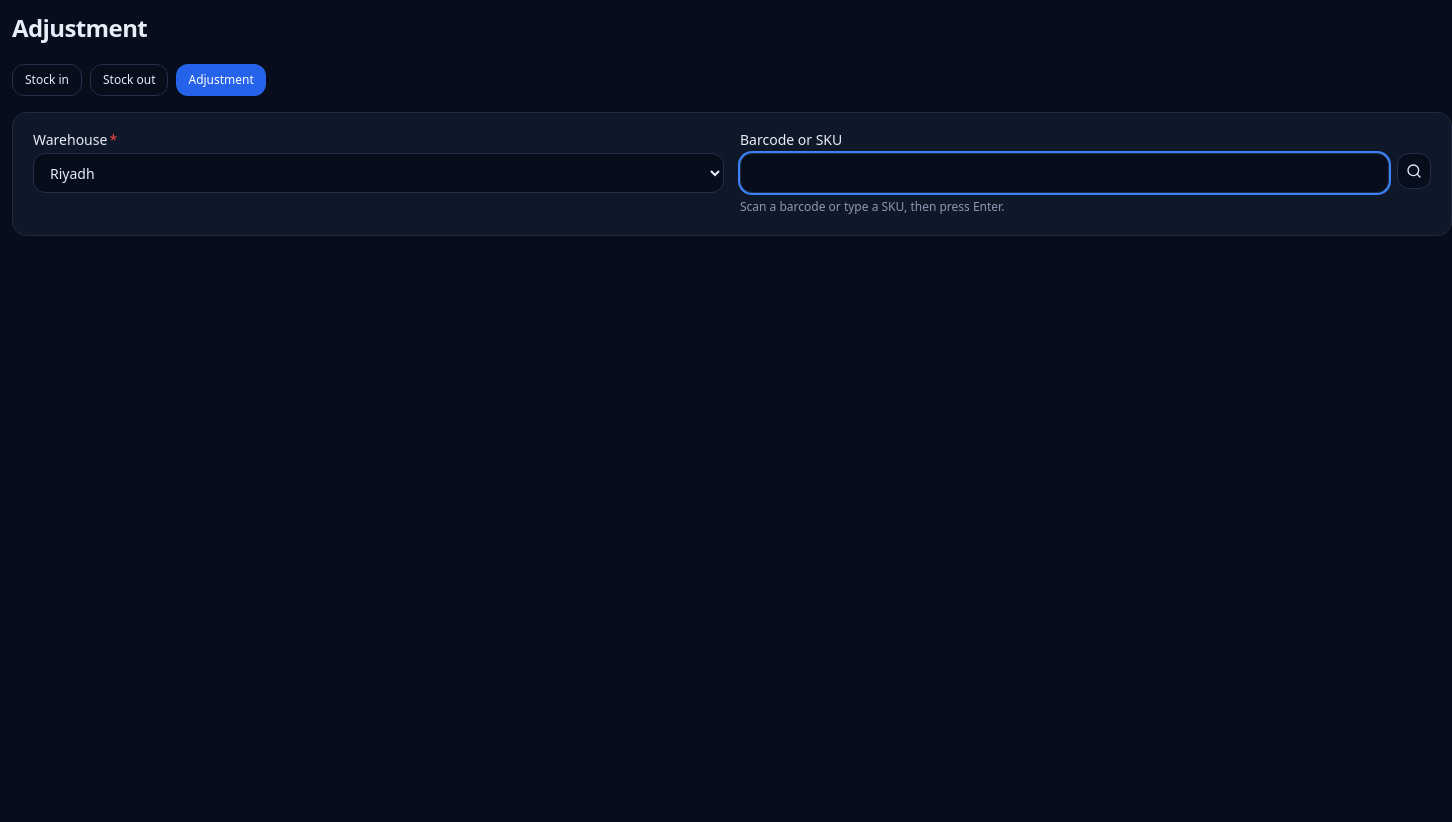
it: stock movement form (server-first) › shows validation messages and sends nothing for an invalid adjustment
The image size is (1452, 822).
In the field labelled "Barcode or SKU": (1065, 173) [740, 153, 1389, 193], type "2000000100104"
Then press Enter
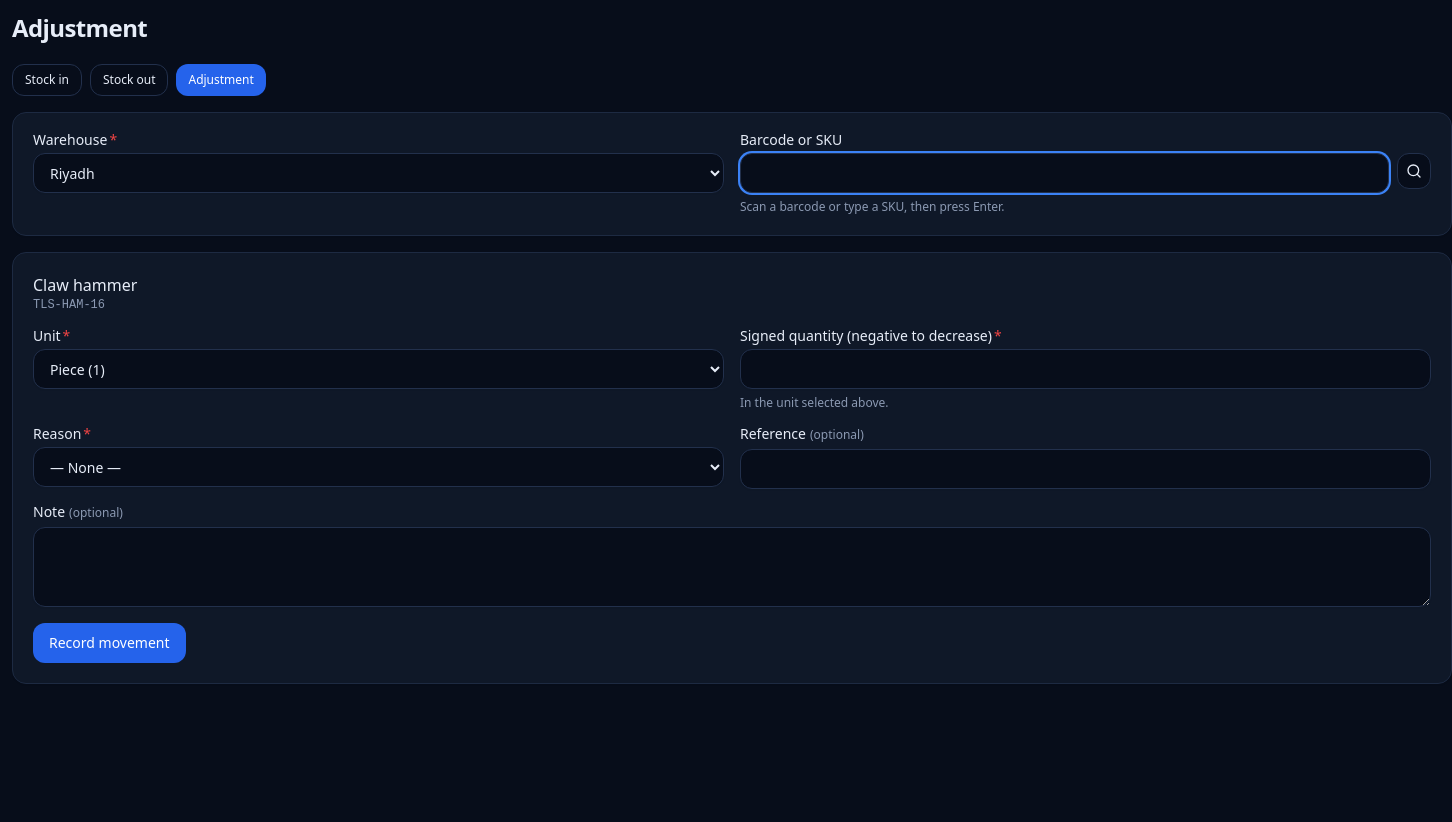
Now the text "Claw hammer" is shown, box [33, 274, 137, 296]
In the field labelled "Signed quantity (negative to decrease)*": (1086, 369) [740, 349, 1431, 389], type "-3"
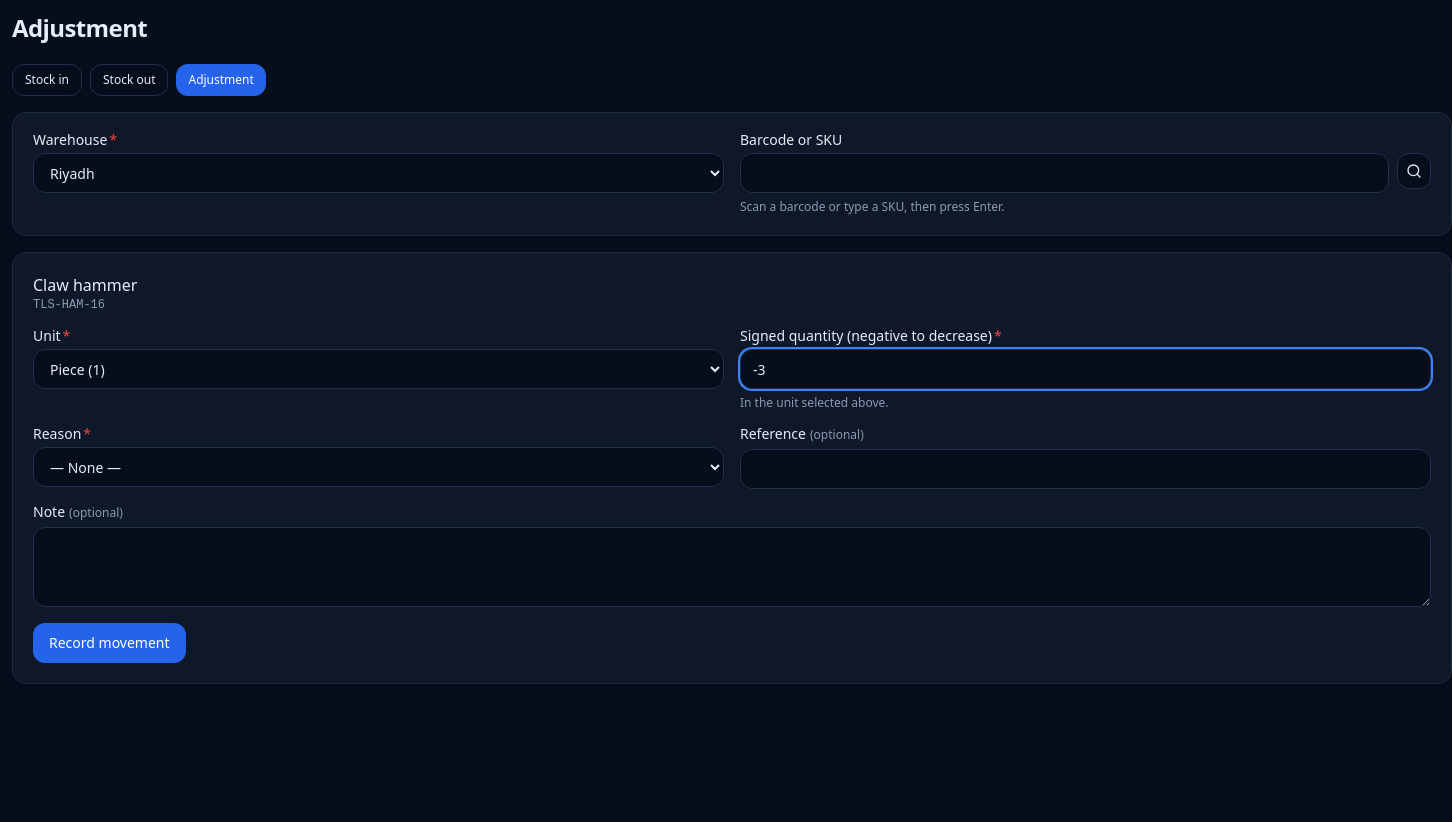
Click the button "Record movement": (109, 643) [33, 623, 186, 663]
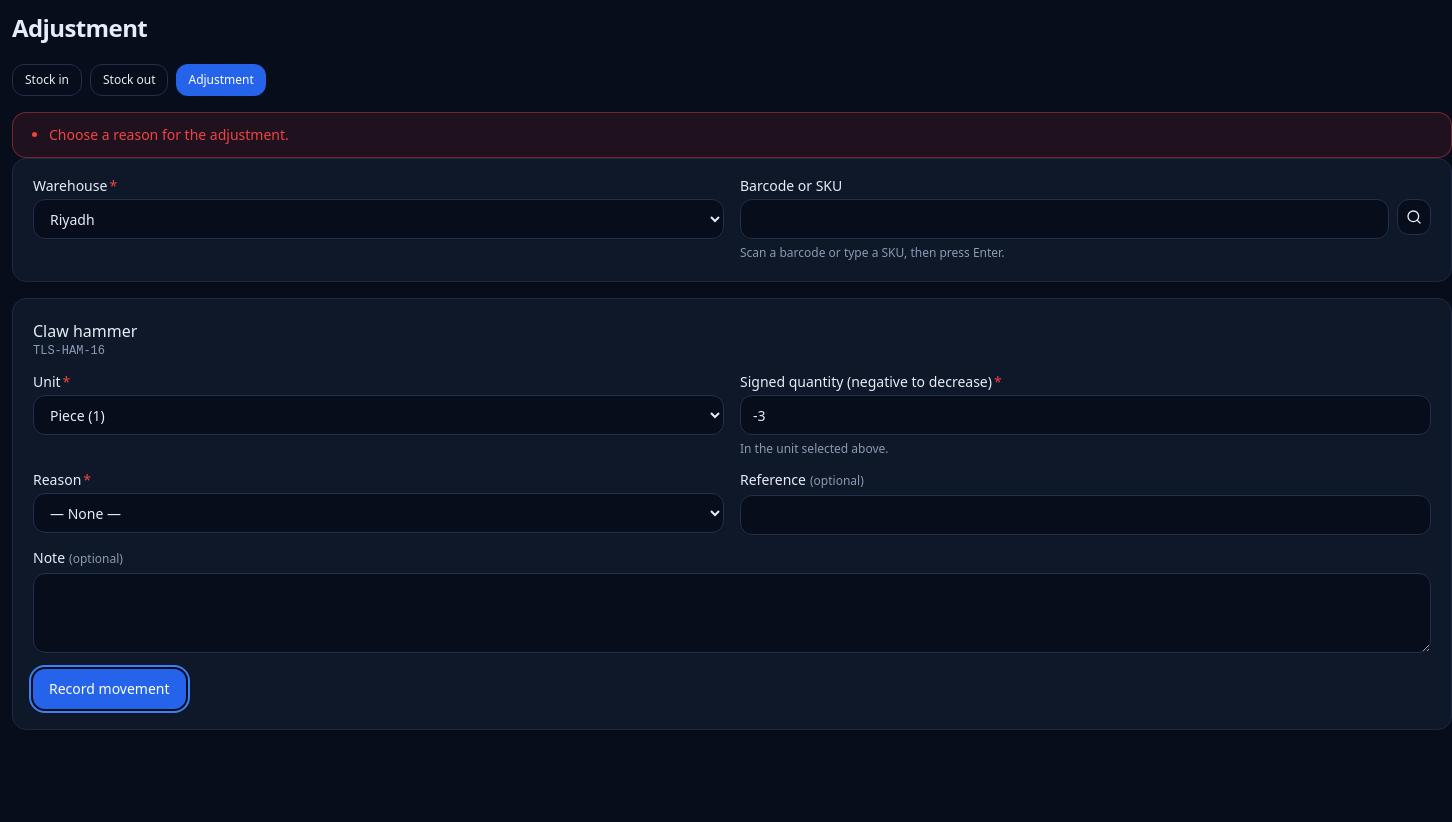
Now the list item "Choose a reason for the adjustment." is shown, box [49, 125, 289, 144]
